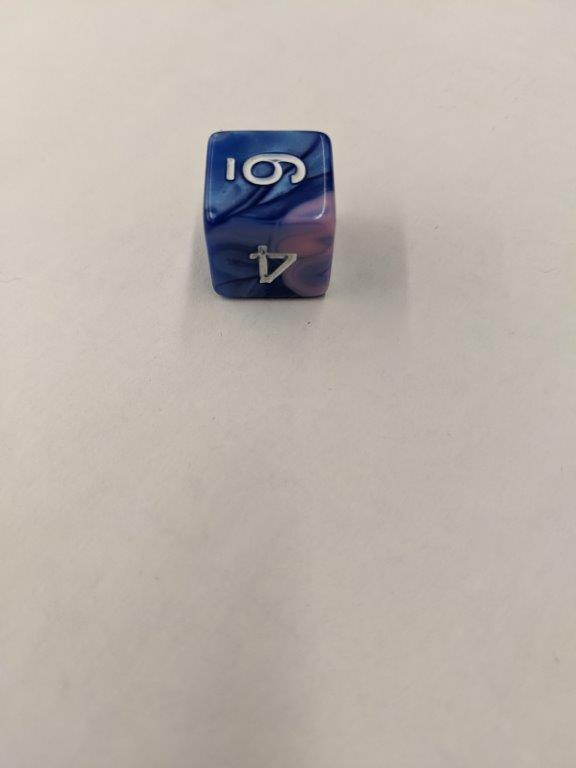d6-6: (203, 128, 338, 307)
